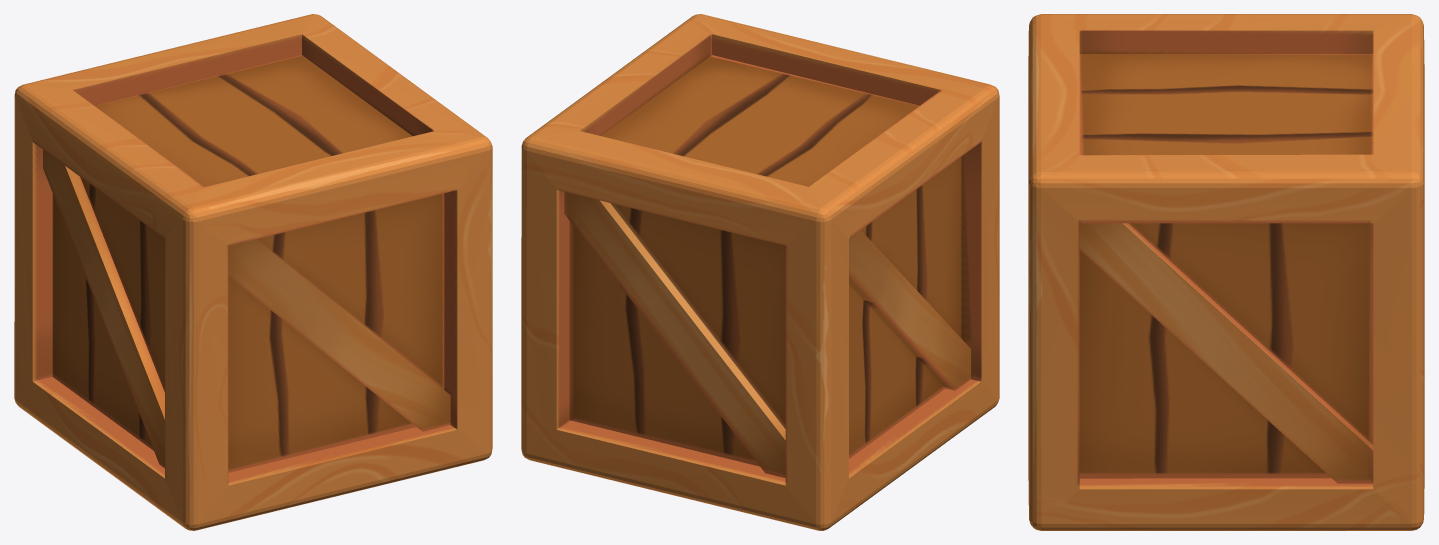
Rendered from kocka drvena1 1.fbx.
3 views of the same model, side by side, from view 1: azimuth 30°, elevation 25°; view 2: azimuth 150°, elevation 25°; view 3: azimuth 270°, elevation 25° (orthographic). The views are drawn at different scales.
Visible parts, largest first — view 1: box_ram_2.002; view 2: box_ram_2.002; view 3: box_ram_2.002.
Part boxes in pixels (<box>): box_ram_2.002: <box>14,14,492,530</box>; box_ram_2.002: <box>521,14,999,530</box>; box_ram_2.002: <box>1028,14,1424,530</box>.
Bounding box in the file's own units: 194 × 194 × 194.
1 material, 1 textured.
